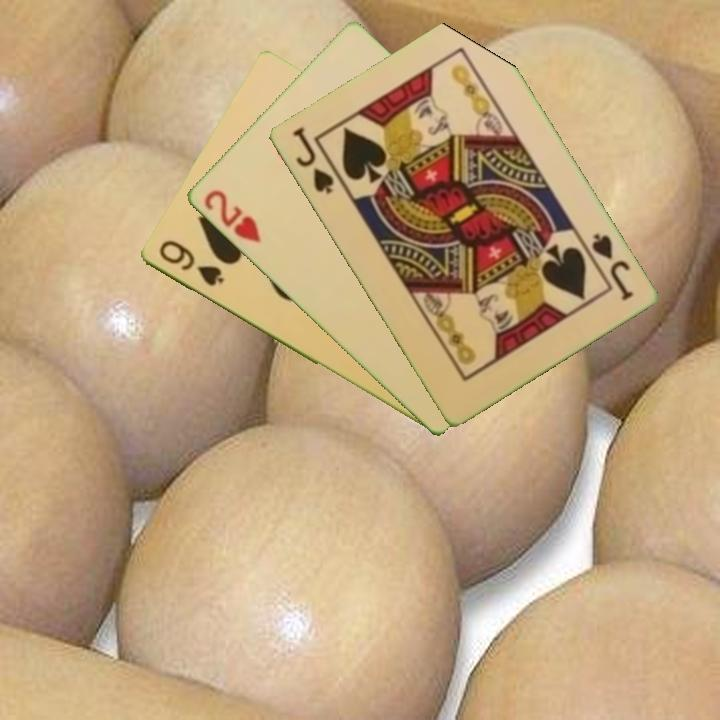2h: (200, 186, 264, 246)
9s: (154, 236, 226, 290)
Js: (579, 229, 636, 304), (288, 123, 336, 197)
